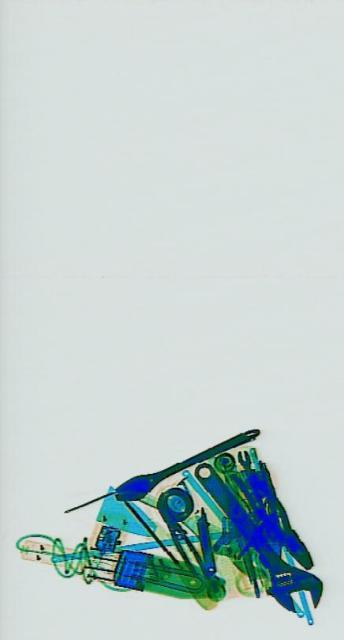Pliers: (247, 477, 316, 583), (154, 492, 206, 588)
Wrench: (185, 437, 322, 635), (233, 444, 254, 488)
